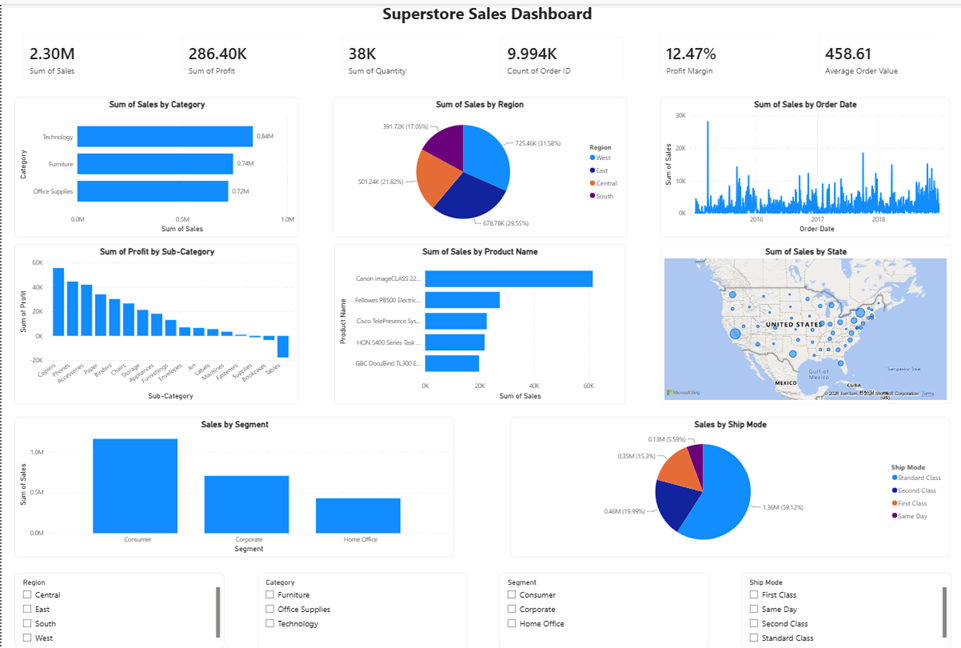

The dashboard page shown, as its layout file describes it:
{"tool":"powerbi","page":{"name":"Page 1","canvas":[1920,1400],"ordinal":0},"visuals":[{"type":"cardVisual","fields":{"Data":["Sum(Superstore.Sales)"]},"box":[26.7,57.8,280,120],"z":0},{"type":"cardVisual","fields":{"Data":["Sum(Superstore.Profit)"]},"box":[344.9,57.8,280,120],"z":1000},{"type":"cardVisual","fields":{"Data":["Sum(Superstore.Quantity)"]},"box":[663.1,57.8,280,120],"z":2000},{"type":"cardVisual","fields":{"Data":["CountNonNull(Superstore.Order ID)"]},"box":[981.3,57.8,280,120],"z":3000},{"type":"clusteredBarChart","fields":{"Category":["Superstore.Category"],"Y":["Sum(Superstore.Sales)"]},"box":[26.7,195.6,568.9,280],"z":4000},{"type":"pieChart","fields":{"Category":["Superstore.Region"],"Y":["Sum(Superstore.Sales)"]},"box":[662.2,195.6,588.9,280],"z":5000},{"type":"lineChart","fields":{"Category":["Superstore.Order Date"],"Y":["Sum(Superstore.Sales)"]},"box":[1317.8,195.6,580,280],"z":6000},{"type":"clusteredColumnChart","fields":{"Category":["Superstore.Sub-Category"],"Y":["Sum(Superstore.Profit)"]},"box":[26.7,490.9,568.9,320],"z":7000},{"type":"slicer","fields":{"Values":["Superstore.Region"]},"box":[26.7,1148,420,150],"z":8000},{"type":"slicer","fields":{"Values":["Superstore.Category"]},"box":[511.1,1148,420,150],"z":9000},{"type":"slicer","fields":{"Values":["Superstore.Segment"]},"box":[995.6,1148,420,150],"z":10000},{"type":"slicer","fields":{"Values":["Superstore.Ship Mode"]},"box":[1480,1148,420,150],"z":11000},{"type":"textbox","box":[742.1,0,444.7,57.9],"z":12000},{"type":"cardVisual","fields":{"Data":["Superstore.Profit Margin"]},"box":[1299.6,57.8,280,120],"z":13000},{"type":"clusteredBarChart","fields":{"Category":["Superstore.Product Name"],"Y":["Sum(Superstore.Sales)"]},"box":[665.7,490.9,582,320],"z":14000},{"type":"map","fields":{"Size":["Sum(Superstore.Sales)"],"Category":["Superstore.State"]},"box":[1317.8,490.9,582.2,320],"z":15000},{"type":"cardVisual","fields":{"Data":["Superstore.Average Order Value"]},"box":[1617.8,57.8,280,120],"z":16000},{"type":"clusteredColumnChart","title":"Sales by Segment","fields":{"Category":["Superstore.Segment"],"Y":["Sum(Superstore.Sales)"]},"box":[26.7,835.6,880,280],"z":17000},{"type":"pieChart","title":"Sales by Ship Mode","fields":{"Category":["Superstore.Ship Mode"],"Y":["Sum(Superstore.Sales)"]},"box":[1017.8,835.6,880,280],"z":18000}]}

Visuals, with their boxes on the page's 1920x1400 design canvas (x1, y1, x2, y2). These are canvas units, not pixel positions in the 961x648 screenshot, which may show the page scaled, cropped or inside an application window:
cardVisual - Sum(Superstore.Sales): x1=27 y1=58 x2=307 y2=178
cardVisual - Sum(Superstore.Profit): x1=345 y1=58 x2=625 y2=178
cardVisual - Sum(Superstore.Quantity): x1=663 y1=58 x2=943 y2=178
cardVisual - CountNonNull(Superstore.Order ID): x1=981 y1=58 x2=1261 y2=178
clusteredBarChart - Superstore.Category x Sum(Superstore.Sales): x1=27 y1=196 x2=596 y2=476
pieChart - Superstore.Region x Sum(Superstore.Sales): x1=662 y1=196 x2=1251 y2=476
lineChart - Superstore.Order Date x Sum(Superstore.Sales): x1=1318 y1=196 x2=1898 y2=476
clusteredColumnChart - Superstore.Sub-Category x Sum(Superstore.Profit): x1=27 y1=491 x2=596 y2=811
slicer - Superstore.Region: x1=27 y1=1148 x2=447 y2=1298
slicer - Superstore.Category: x1=511 y1=1148 x2=931 y2=1298
slicer - Superstore.Segment: x1=996 y1=1148 x2=1416 y2=1298
slicer - Superstore.Ship Mode: x1=1480 y1=1148 x2=1900 y2=1298
textbox: x1=742 y1=0 x2=1187 y2=58
cardVisual - Superstore.Profit Margin: x1=1300 y1=58 x2=1580 y2=178
clusteredBarChart - Superstore.Product Name x Sum(Superstore.Sales): x1=666 y1=491 x2=1248 y2=811
map - Sum(Superstore.Sales) x Superstore.State: x1=1318 y1=491 x2=1900 y2=811
cardVisual - Superstore.Average Order Value: x1=1618 y1=58 x2=1898 y2=178
"Sales by Segment" clusteredColumnChart: x1=27 y1=836 x2=907 y2=1116
"Sales by Ship Mode" pieChart: x1=1018 y1=836 x2=1898 y2=1116
